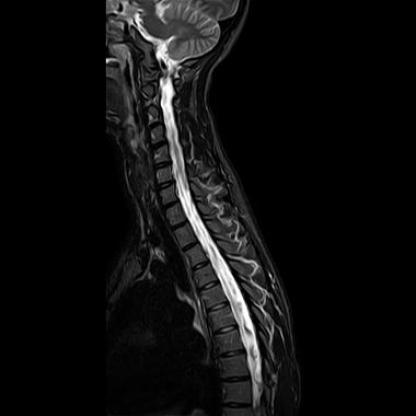Disc Bulgerotation: (150, 139, 167, 153)
